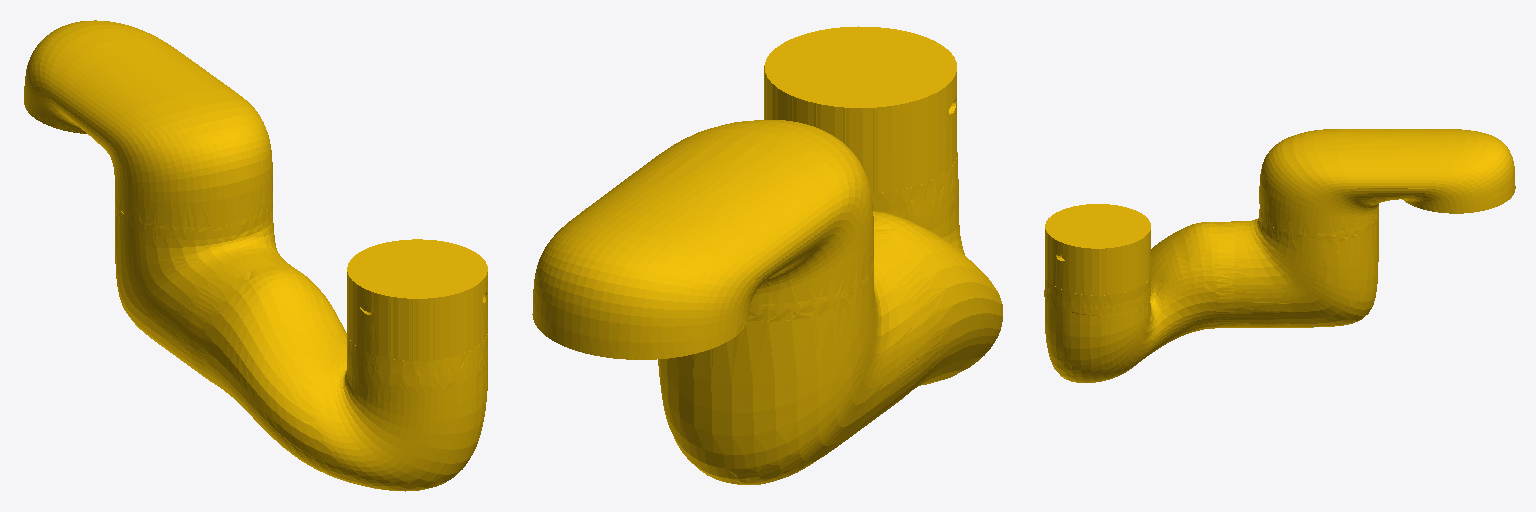
URDF robot description (xarm6_link2):
<?xml version="1.0" encoding="utf-8"?>
<!-- =================================================================================== -->
<!-- |    This document was autogenerated by xacro from xarm6_robot.urdf.xacro         | -->
<!-- |    EDITING THIS FILE BY HAND IS NOT RECOMMENDED                                 | -->
<!-- =================================================================================== -->
<robot name="xarm6_link2">
  <!--
  Author: Jason Peng <jason@ufactory.cc>
  Contributors:
-->
  <gazebo>
    <plugin filename="libgazebo_ros_control.so" name="gazebo_ros_control">
      <robotNamespace>/xarm</robotNamespace>
      <!-- <controlPeriod>0.0001</controlPeriod> -->
      <robotSimType>gazebo_ros_control/DefaultRobotHWSim</robotSimType>
      <legacyModeNS>true</legacyModeNS>
      <!-- <preserveWorldVelocity>true</preserveWorldVelocity> -->
    </plugin>
  </gazebo>
  <link name="world"/>
  <joint name="world_joint" type="fixed">
    <parent link="world"/>
    <child link="link2"/>
    <origin rpy="0 0 0" xyz="0 0 0"/>
  </joint>
  <material name="Black">
    <color rgba="0.0 0.0 0.0 1.0"/>
  </material>
  <material name="Red">
    <color rgba="0.85 0.19  0.21 1.0"/>
  </material>
  <material name="Blue">
    <color rgba="0.28 0.52 0.92 1.0"/>
  </material>
  <material name="Green">
    <color rgba="0.23 0.72 0.32 1.0"/>
  </material>
  <material name="Yellow">
    <color rgba="0.95 0.76 0.05 1.0"/>
  </material>
  <material name="White">
    <color rgba="1.0 1.0 1.0 1.0"/>
  </material>
  <material name="Silver">
    <color rgba="0.753 0.753 0.753 1.0"/>
  </material>
  
  <link name="link2">
    <visual>
      <geometry>
        <mesh filename="package://xarm_description/meshes/xarm6/visual/link2.stl"/>
      </geometry>
      <origin rpy="0 0 0" xyz="-0.03531 0.21398 -0.03386"/>
      <material name="Yellow"/>
    </visual>
    <collision>
      <geometry>
        <mesh filename="package://xarm_description/meshes/xarm6/collision/link2_vhacd.obj"/>
      </geometry>
      <origin rpy="0 0 0" xyz="-0.03531 0.21398 -0.03386"/>
    </collision>
    <inertial>
      <origin rpy="0 0 0" xyz="0 0 0"/>
      <mass value="1.71"/>
      <inertia ixx="0.0248674" ixy="-0.00430651" ixz="-0.00067797" iyy="0.00485548" iyz="0.00457245" izz="0.02387827"/>
    </inertial>
  </link>
 
</robot>

--- Facts derived from the render (not from the file) ---
Views: 3 orthographic renders of the robot side by side, from view 1: azimuth 30°, elevation 25°; view 2: azimuth 150°, elevation 25°; view 3: azimuth 270°, elevation 25°.
Model xarm6_link2 with 2 links and 1 joints (1 fixed), rooted at world, posed all joints at 0.
Visible links, largest first — view 1: link2; view 2: link2; view 3: link2.
Boxes of the visible links, x1=… form: link2: x1=24, y1=20, x2=487, y2=491; link2: x1=532, y1=26, x2=1002, y2=484; link2: x1=1044, y1=129, x2=1515, y2=382.
Bounding box of the posed robot: 0.1432 × 0.3747 × 0.1881 m (x, y, z).
Meshes: 1 distinct files referenced, 1 mesh visuals loaded (1 binary STL).
